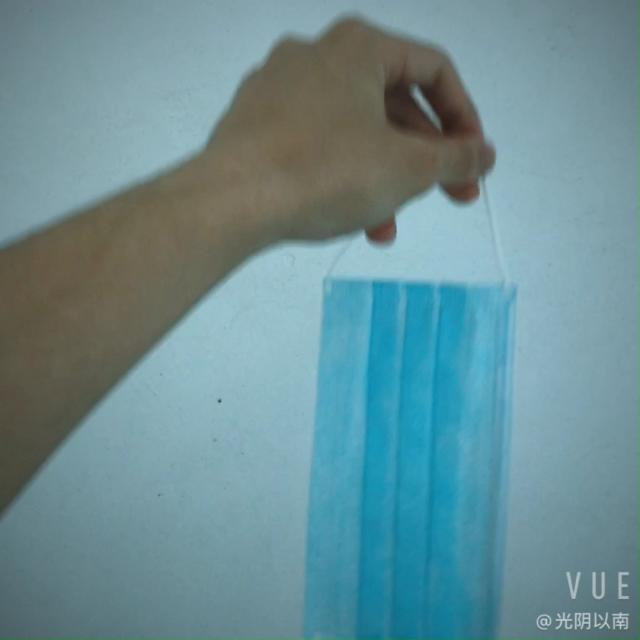non-organic waste: (267, 255, 514, 640)
